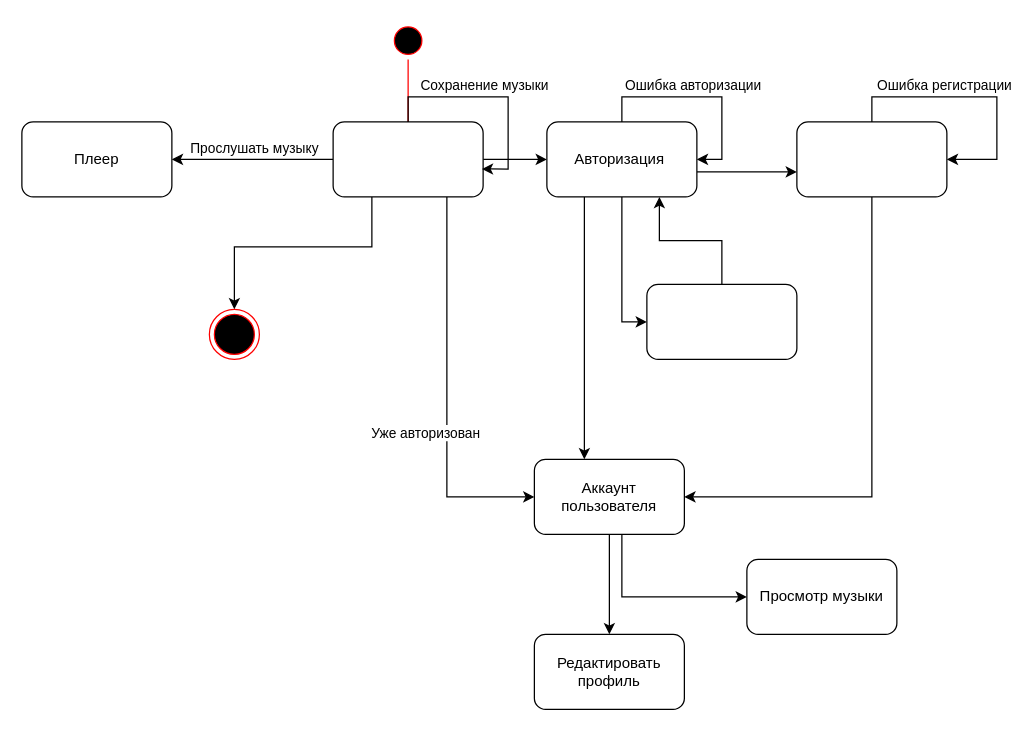
The diagram is 1033 pixels wide and 731 high, and some of its shapes have lost their labels. Each missing label, with the centre of its shape:
Восстановление пароля: (x=721, y=321)
Главная страница: (x=407, y=159)
Регистрация: (x=871, y=159)
